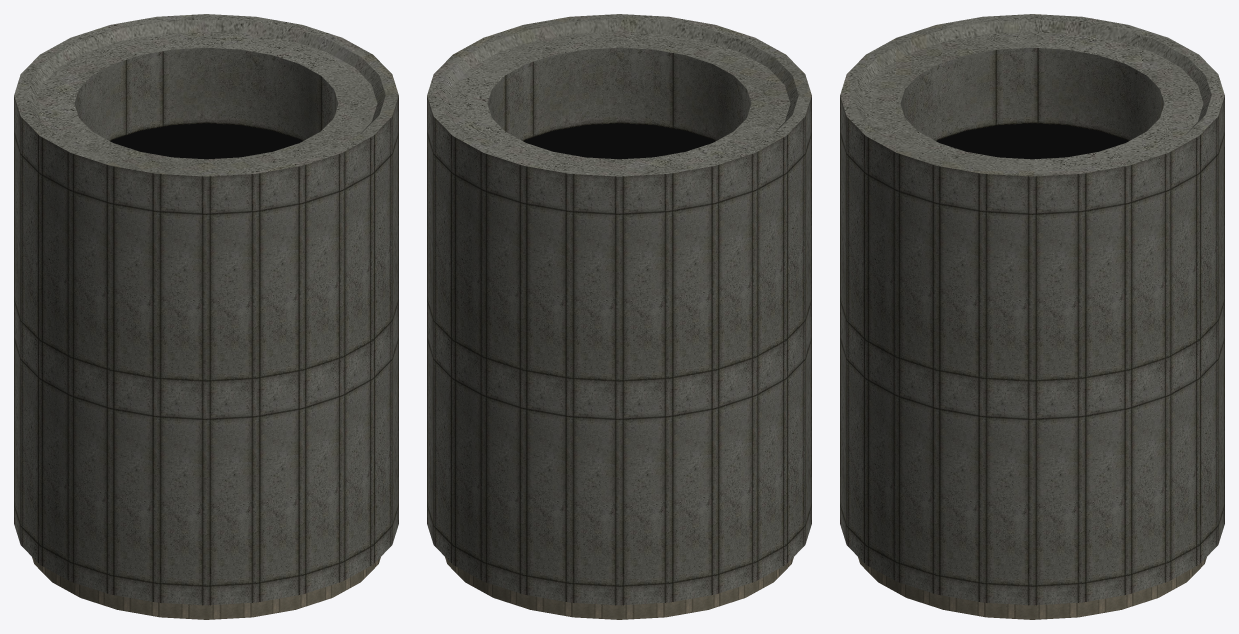
The model's file is trash-bin.obj.
3 views of the same model, side by side, from view 1: azimuth 30°, elevation 25°; view 2: azimuth 150°, elevation 25°; view 3: azimuth 270°, elevation 25° (orthographic).
Parts seen in each view (by area): view 1: Mesh1 NM_common_Trash_Bin1 Model; view 2: Mesh1 NM_common_Trash_Bin1 Model; view 3: Mesh1 NM_common_Trash_Bin1 Model.
Boxes of the visible parts, x1,y1,x2,y2 form: Mesh1 NM_common_Trash_Bin1 Model: (14, 14, 398, 619); Mesh1 NM_common_Trash_Bin1 Model: (427, 14, 811, 619); Mesh1 NM_common_Trash_Bin1 Model: (840, 14, 1224, 619).
Bounding box in the file's own units: 0.85 × 1.1 × 0.85.
